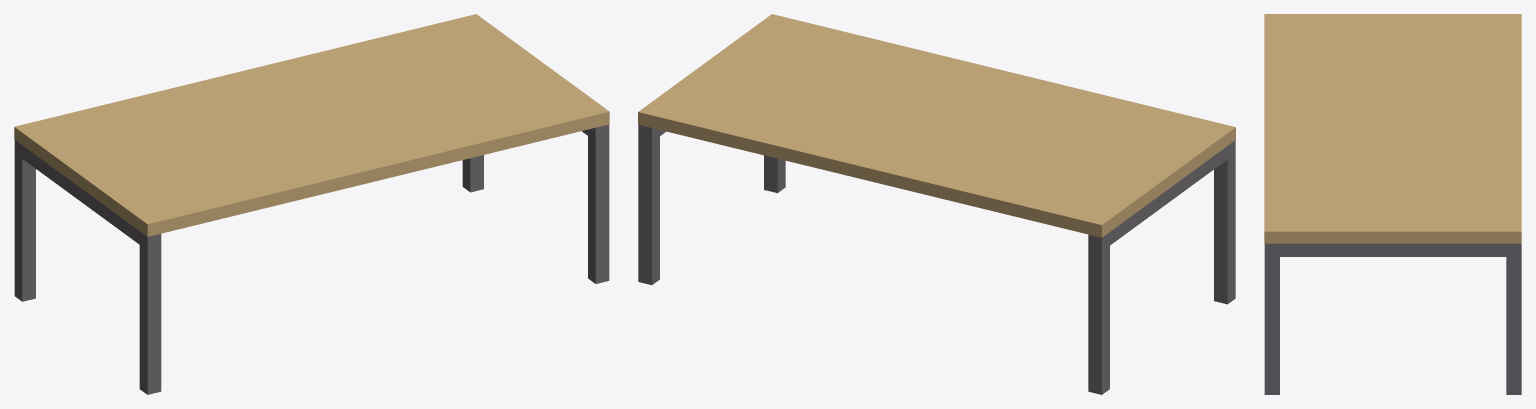
File: Bord2.fbx
3 views of the same model, side by side, from view 1: azimuth 30°, elevation 25°; view 2: azimuth 150°, elevation 25°; view 3: azimuth 270°, elevation 25° (orthographic). The views are drawn at different scales.
Visible parts, largest first — view 1: Cube.001, Cube, Cube.002, Cube.005, Cube.004, Cube.003; view 2: Cube.001, Cube.005, Cube.003, Cube, Cube.004, Cube.002; view 3: Cube.001, Cube.006, Cube.003, Cube.002.
Boxes of the visible parts, x1=… form: Cube.001: x1=14, y1=14, x2=609, y2=236; Cube: x1=139, y1=231, x2=161, y2=394; Cube.002: x1=588, y1=124, x2=609, y2=283; Cube.005: x1=14, y1=140, x2=35, y2=301; Cube.004: x1=22, y1=145, x2=139, y2=244; Cube.003: x1=462, y1=155, x2=483, y2=192; Cube.001: x1=638, y1=14, x2=1235, y2=237; Cube.005: x1=1088, y1=232, x2=1109, y2=394; Cube.003: x1=638, y1=125, x2=659, y2=284; Cube: x1=1214, y1=140, x2=1235, y2=304; Cube.004: x1=1109, y1=146, x2=1227, y2=245; Cube.002: x1=764, y1=155, x2=785, y2=193; Cube.001: x1=1264, y1=14, x2=1521, y2=243; Cube.006: x1=1280, y1=243, x2=1506, y2=256; Cube.003: x1=1506, y1=243, x2=1521, y2=394; Cube.002: x1=1264, y1=243, x2=1279, y2=394.
Size of the model in its own units: 400 by 141 by 200.
